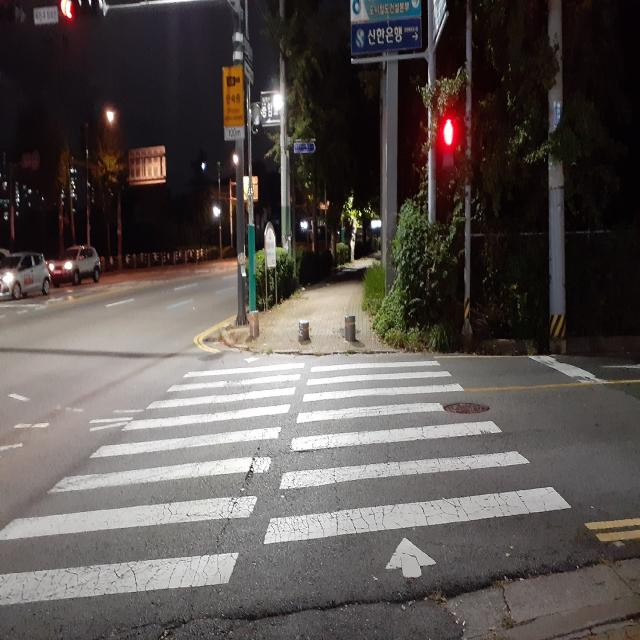빨간불: (442, 120, 456, 179)
횡단보도: (0, 352, 573, 609)
